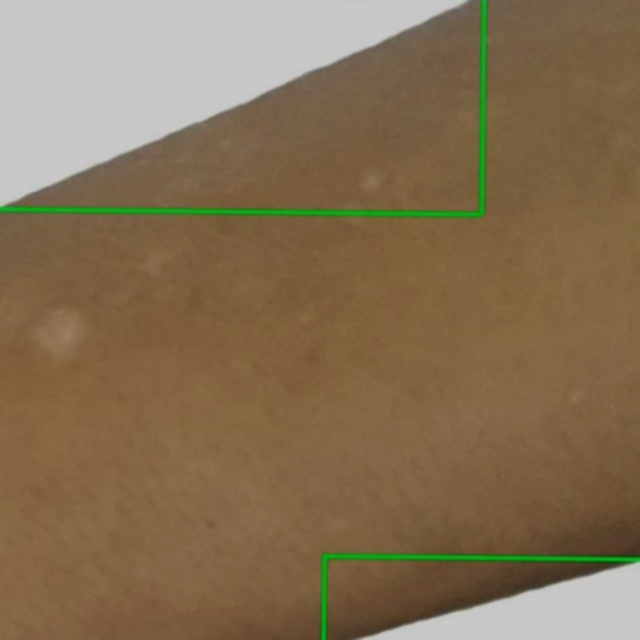Atopic Dermatitis: (0, 0, 484, 214), (323, 555, 639, 639)
